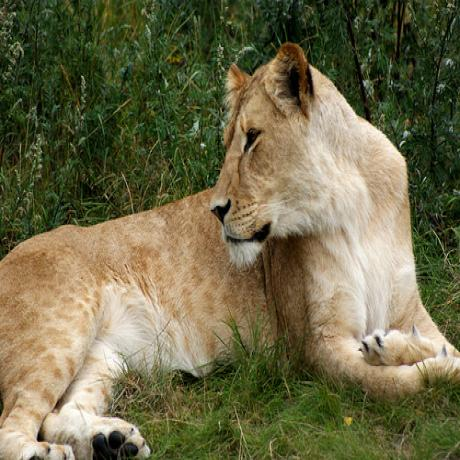Lion: (0, 41, 460, 460)
